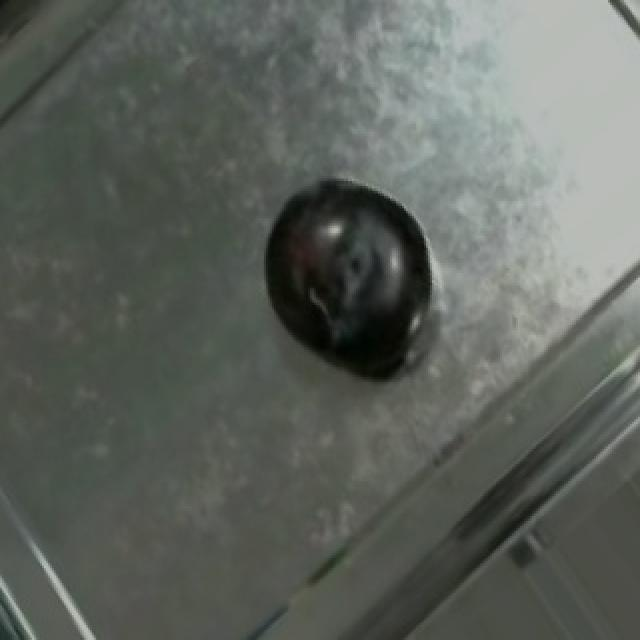Fruit: (242, 161, 434, 377)
